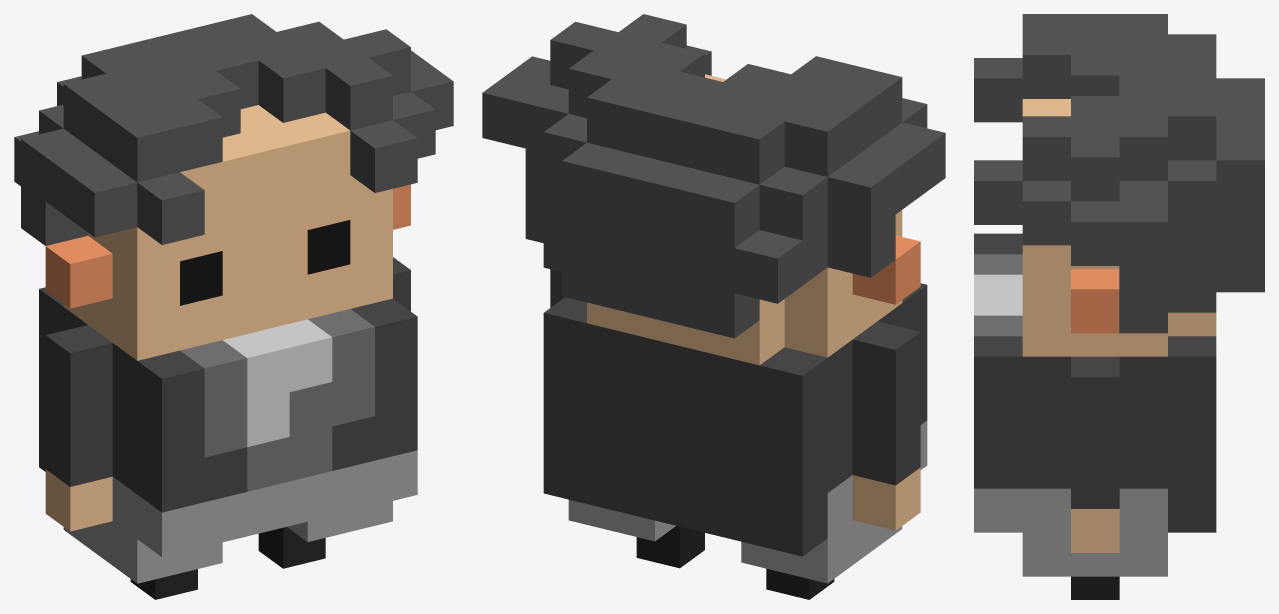
File: chr_suit1.obj
3 renders of one model, left to right at view 1: azimuth 30°, elevation 25°; view 2: azimuth 150°, elevation 25°; view 3: azimuth 270°, elevation 25°, orthographic. The views are drawn at different scales.
Size of the model in its own units: 0.9 by 1.1 by 0.6.
Materials: 1 (1 with a texture image).
